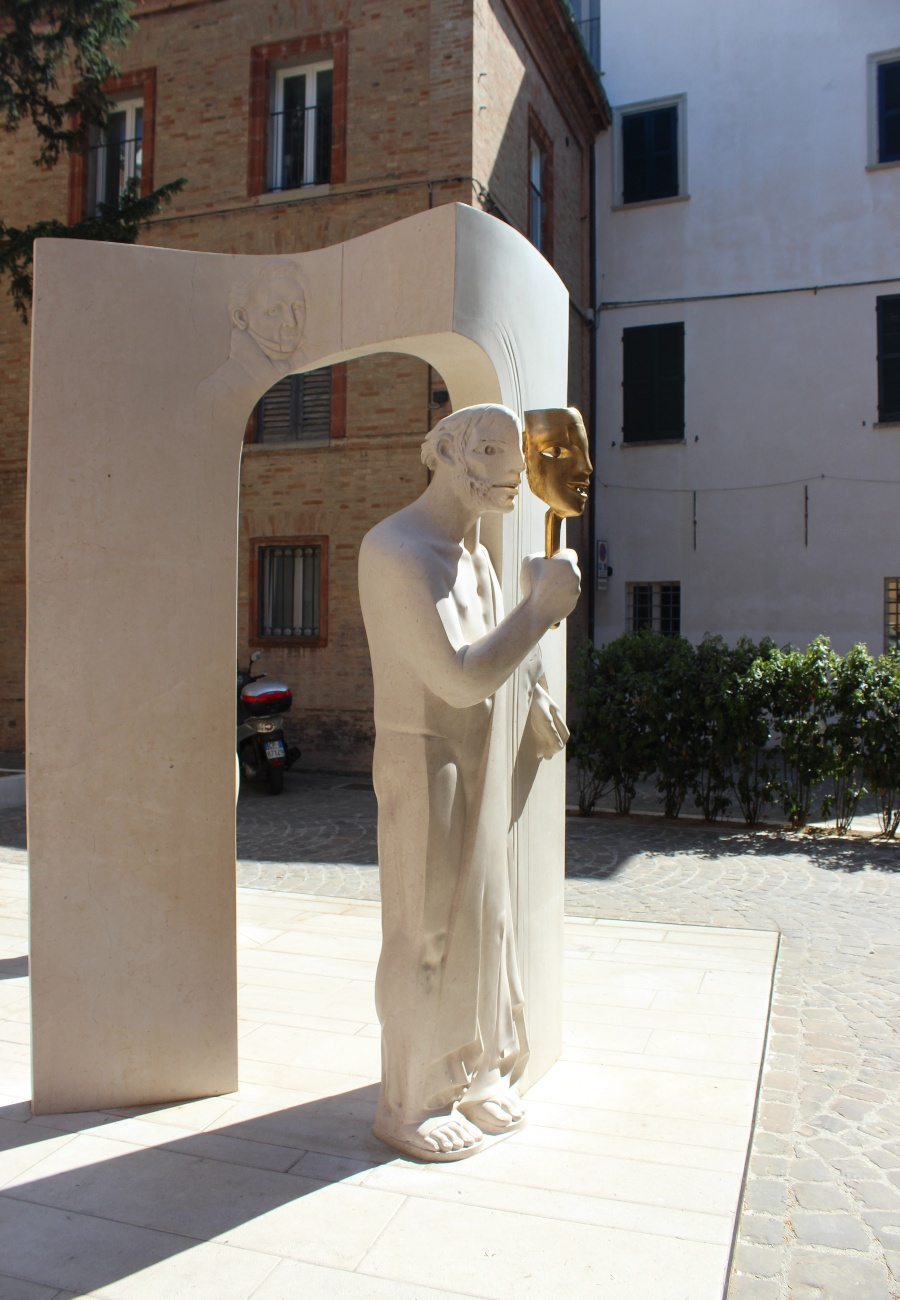Scultura della Memoria: (356, 401, 586, 1166)
